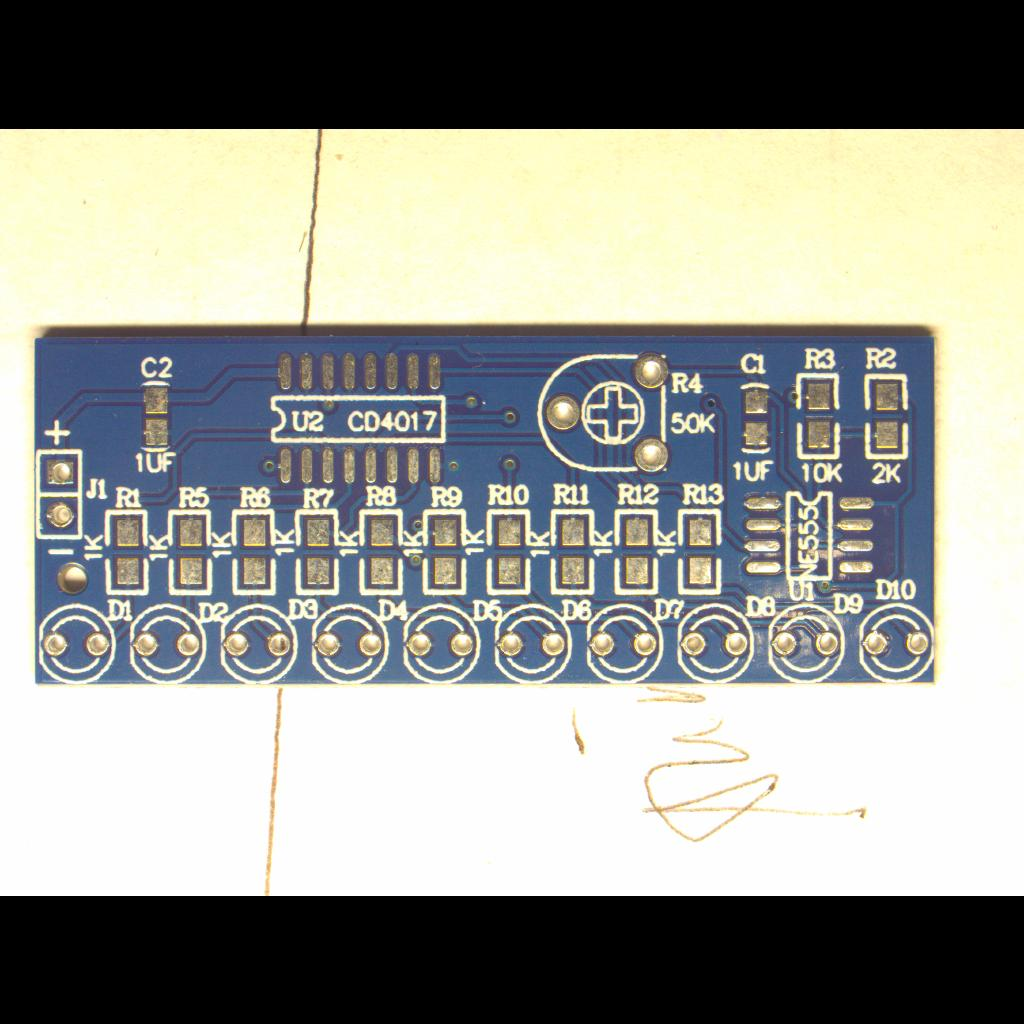NG: (264, 342, 454, 498), (734, 481, 884, 587), (860, 369, 916, 463), (791, 369, 847, 463), (226, 504, 282, 598), (416, 504, 472, 598), (354, 505, 410, 597), (608, 505, 664, 597), (290, 504, 344, 598), (483, 504, 537, 596), (162, 506, 216, 596), (674, 504, 726, 596), (546, 504, 598, 596), (132, 374, 182, 462), (734, 377, 780, 459), (105, 510, 149, 592)
